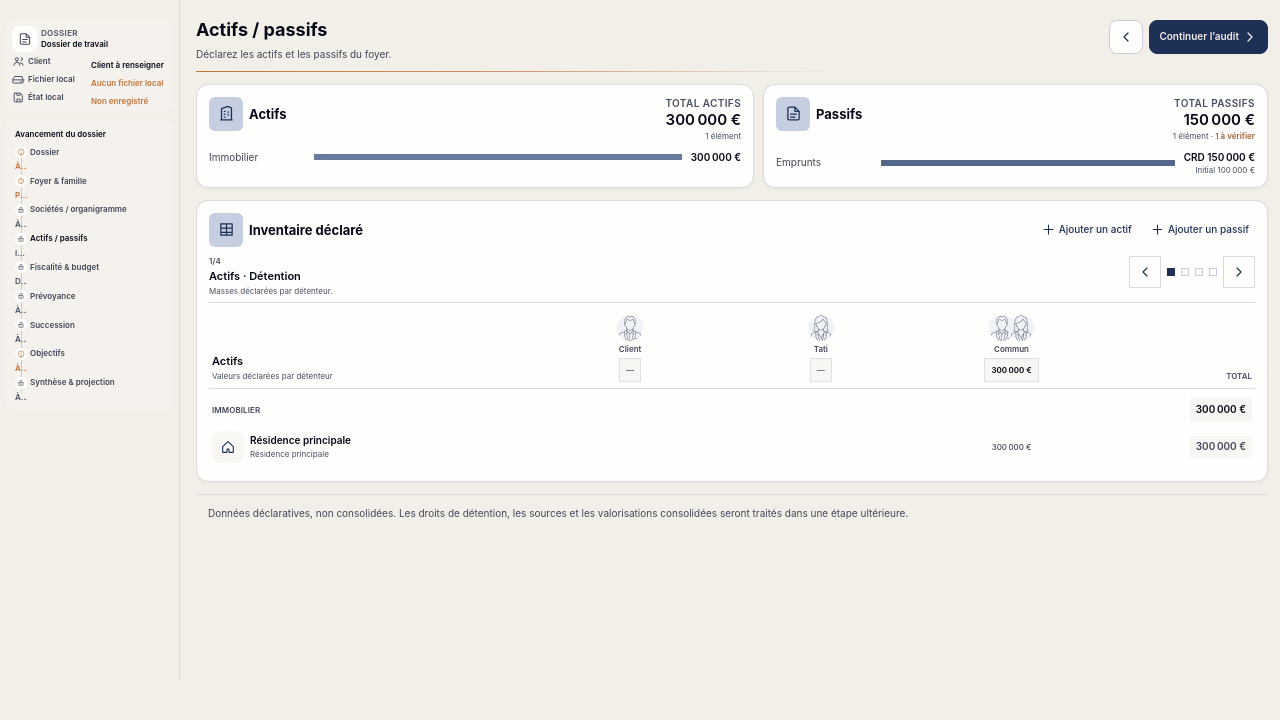
ActifsPassifsPage › résume par carte et ne signale que les incohérences sur les lignes
The image size is (1280, 720).
Expected: the text "Immobilier" in the row of "Emprunts" is shown, [209,151,258,163]
Expected: the heading "Actifs · Détention" is shown, [209,269,301,283]
Click the button named "Afficher Passifs · Détention & couverture" at (1199, 272), box [1195,268,1203,276]
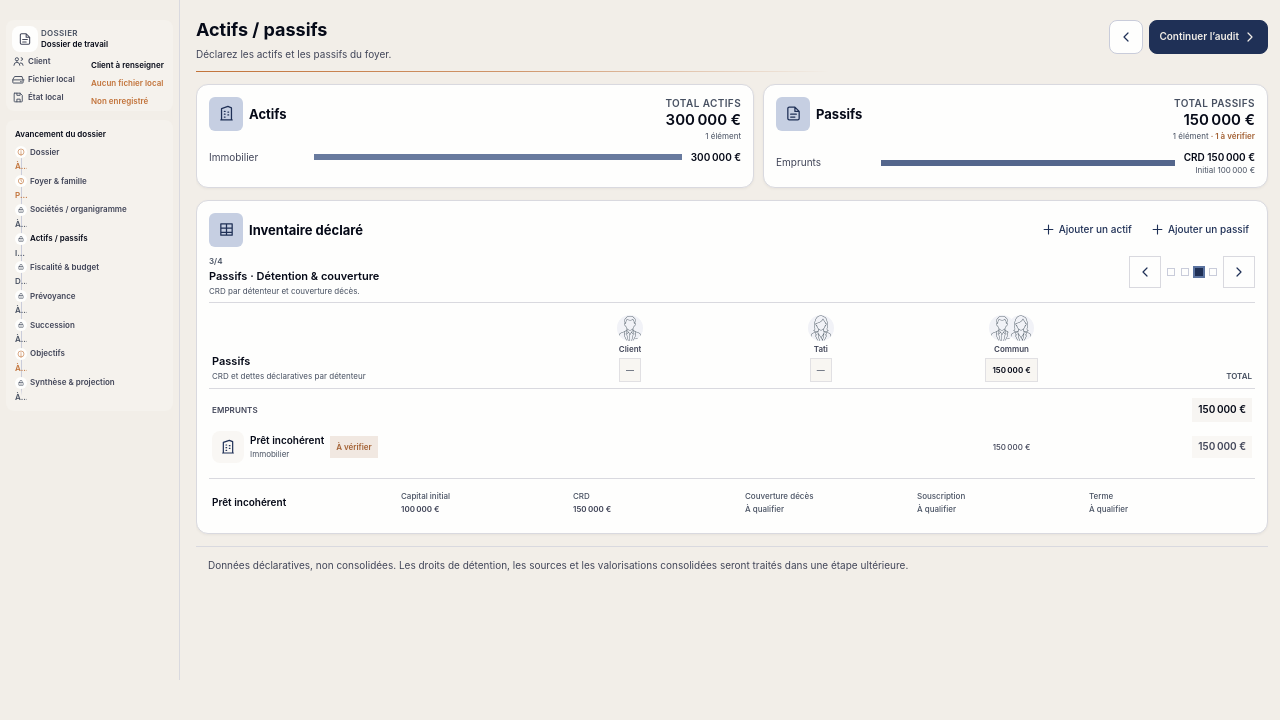
Expected: the text with class "audit-matrix__cell-total" is shown, [1192,436,1252,458]
Result: the text "À vérifier" is shown at [330,436,378,458]
Result: the text "Couverture décès" is shown at [745,491,814,501]
Click the button with aria-label "Modifier Prêt incohérent" at (228, 447), box [209,425,1255,469]
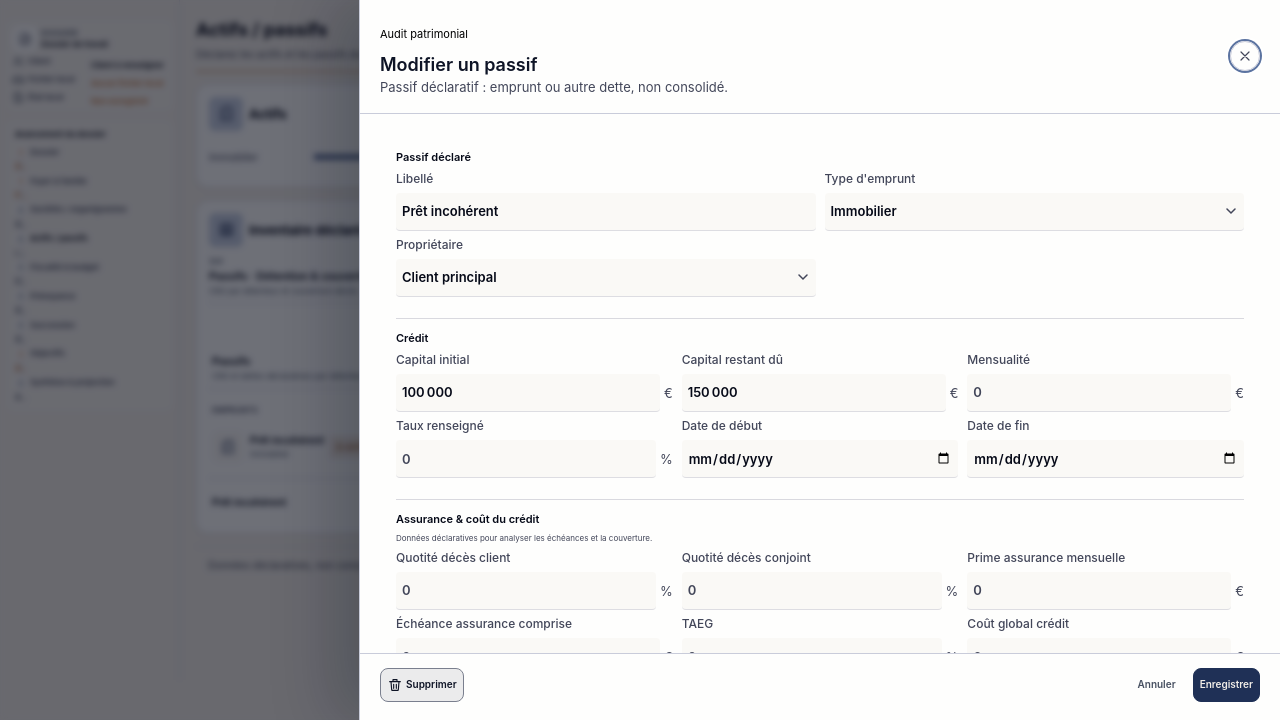
Result: the dialog "Modifier un passif" is shown
